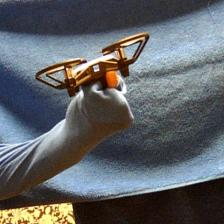drone: (34, 33, 149, 98)
